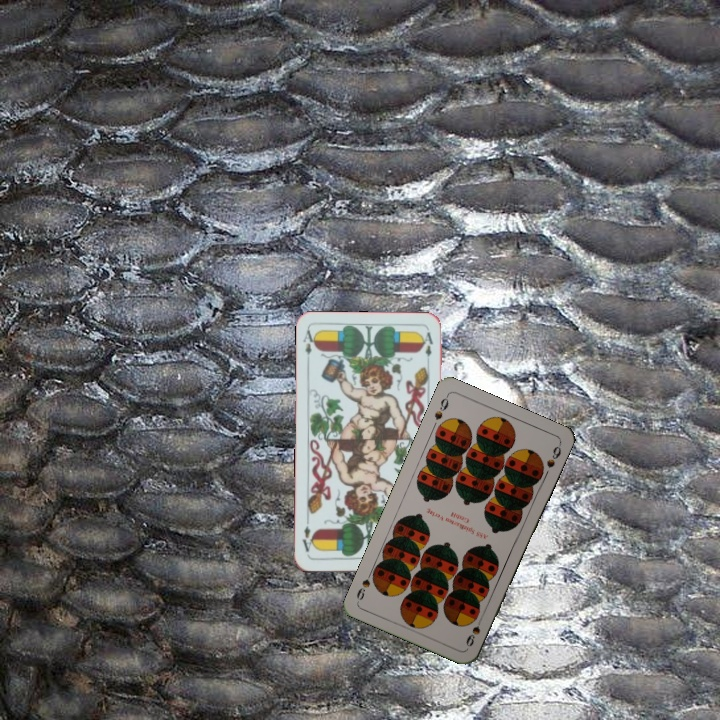EA: (299, 326, 318, 366)
S9: (462, 612, 485, 649), (430, 391, 451, 423)
